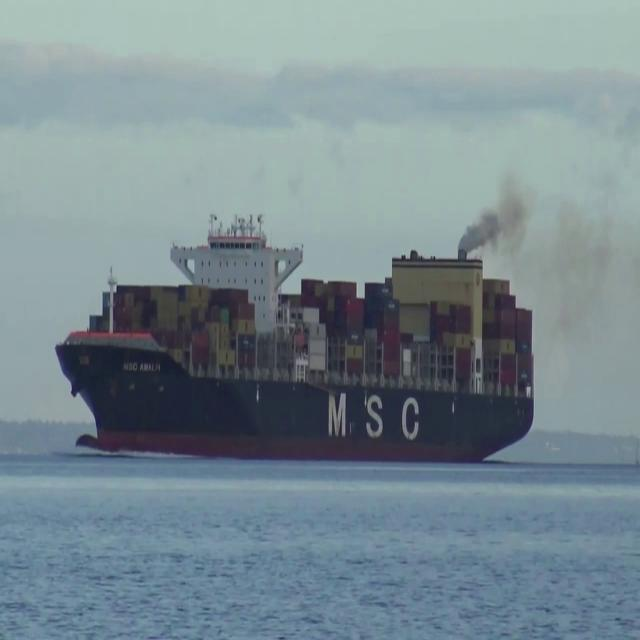OCR: (322, 382, 420, 446), (118, 354, 158, 378)
